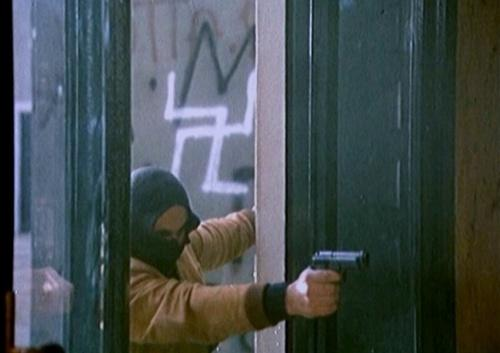Gun: (310, 250, 370, 282)
